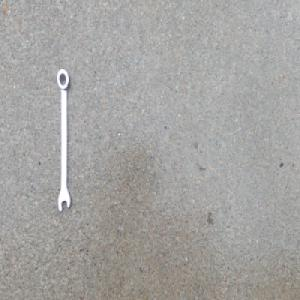Wrench: (56, 67, 72, 213)
